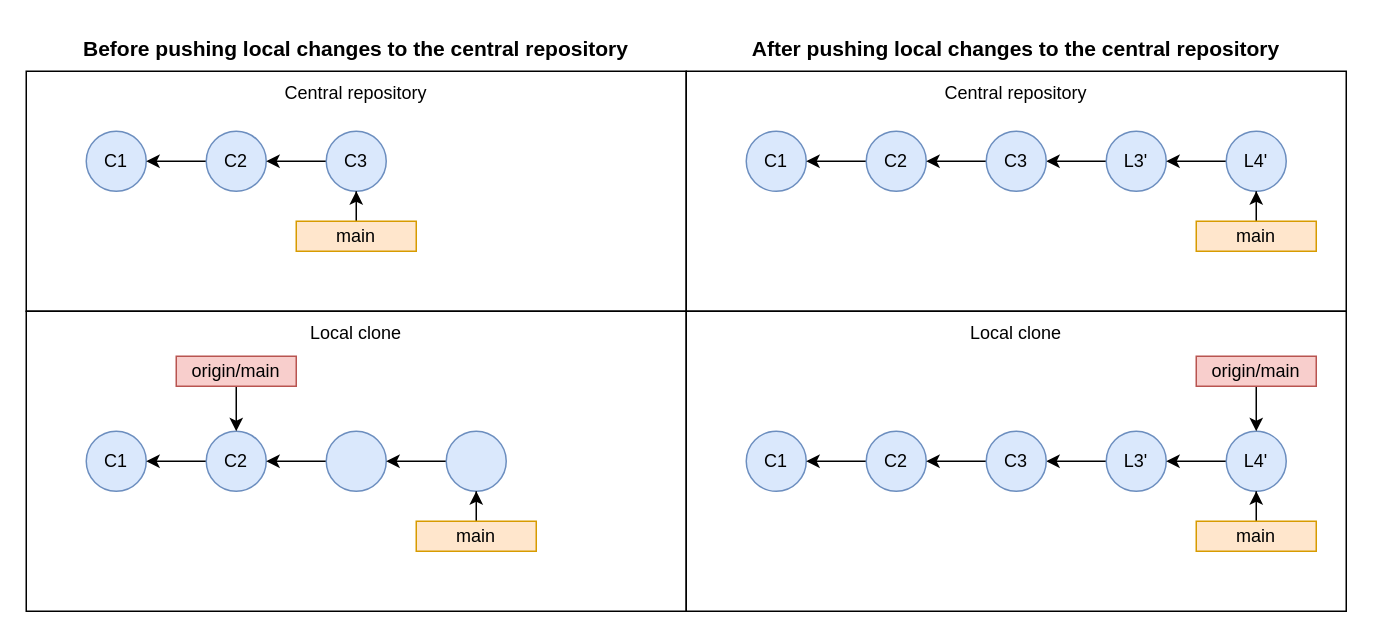
This 1373x638 diagram has some shape labels left out. Here are the shapes that lost their labels. From the top down, the centre of each, then its label:
the point at 355,460: L3
the point at 475,460: L4
